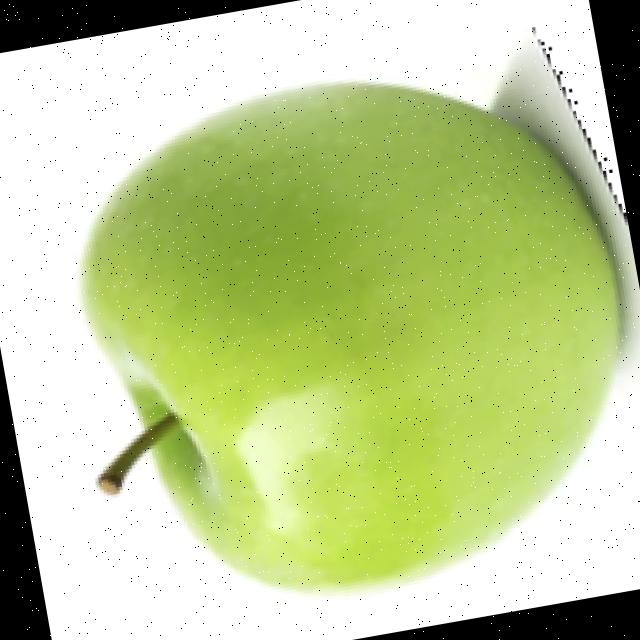apple: (72, 33, 640, 600)
